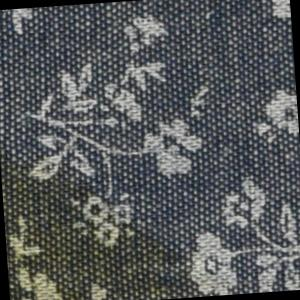Oil Stain: (1, 144, 204, 300)
